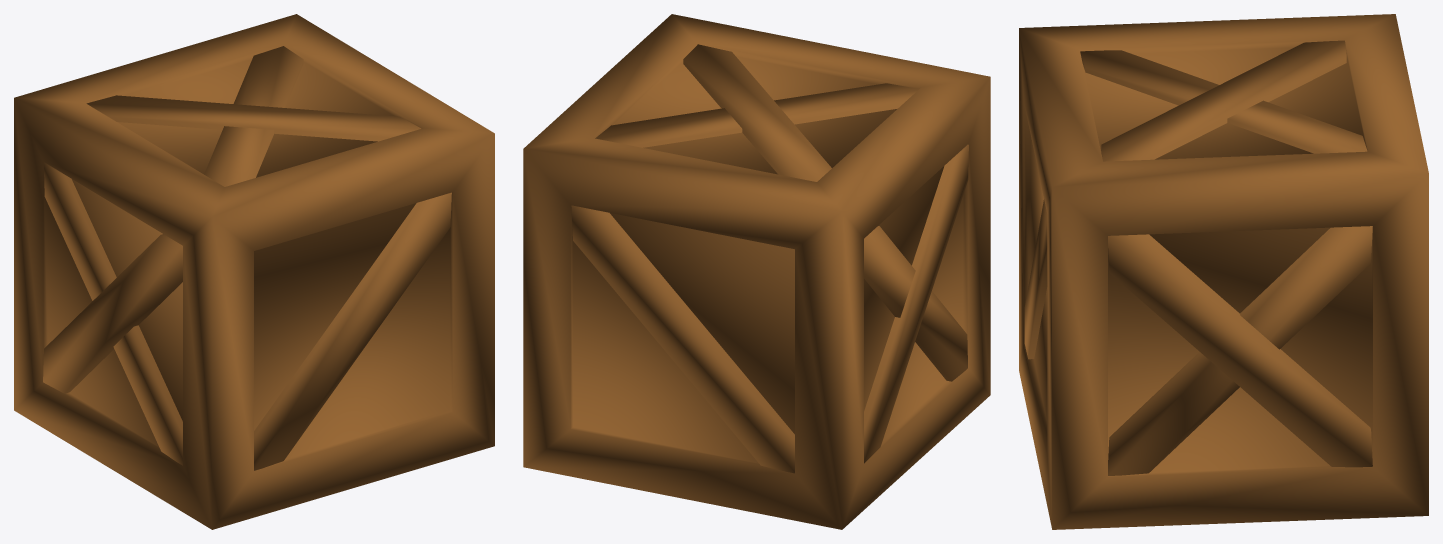
3 renders of one model, left to right at view 1: azimuth 30°, elevation 25°; view 2: azimuth 150°, elevation 25°; view 3: azimuth 270°, elevation 25°, orthographic. The views are drawn at different scales.
Parts seen in each view (by area): view 1: Cube.011; view 2: Cube.011; view 3: Cube.011.
Part boxes in pixels (x1,y1,x2,y2): Cube.011: (14,14,494,529); Cube.011: (523,14,990,529); Cube.011: (1019,14,1428,529).
Size of the model in its own units: 0.9046 by 0.835 by 0.9046.
